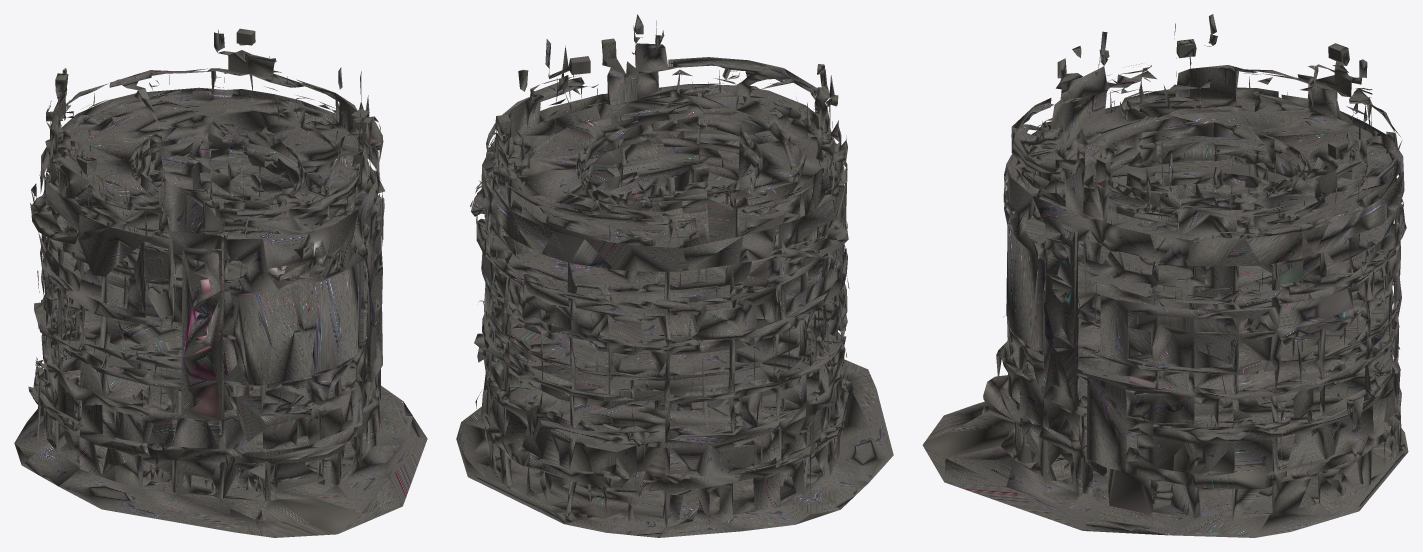
File: tower-cylinder.glb
The picture shows the model from 3 angles, left to right: view 1: azimuth 30°, elevation 25°; view 2: azimuth 150°, elevation 25°; view 3: azimuth 270°, elevation 25°; orthographic projection. The views are drawn at different scales.
Visible parts, largest first — view 1: output_unwrapped; view 2: output_unwrapped; view 3: output_unwrapped.
Boxes of the visible parts, bbox=[...] form: output_unwrapped: bbox=[14, 28, 427, 537]; output_unwrapped: bbox=[456, 14, 893, 537]; output_unwrapped: bbox=[922, 14, 1408, 537].
Bounding box in the file's own units: 1.68 × 1.6 × 1.9.
Materials: 1 (1 with a texture image).
